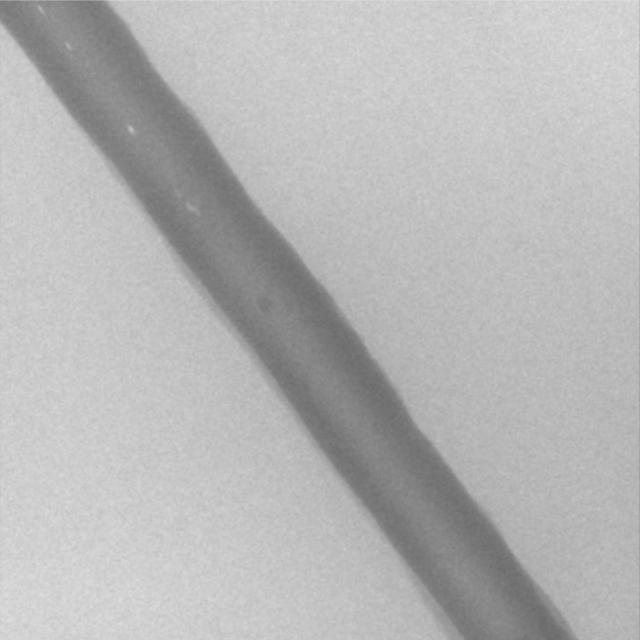air hole: (127, 125, 135, 136), (64, 40, 71, 52)
